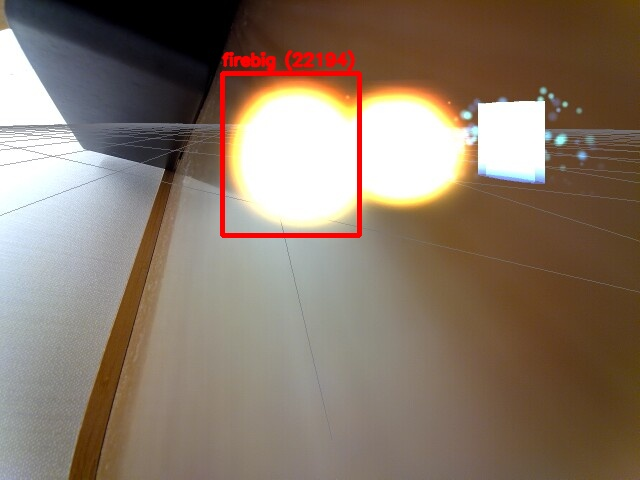firebig: (222, 73, 359, 235)
